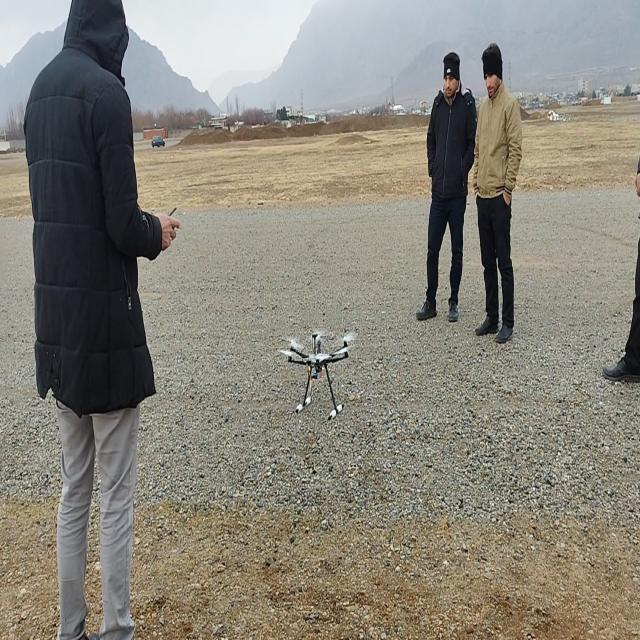drone: (281, 328, 358, 421)
